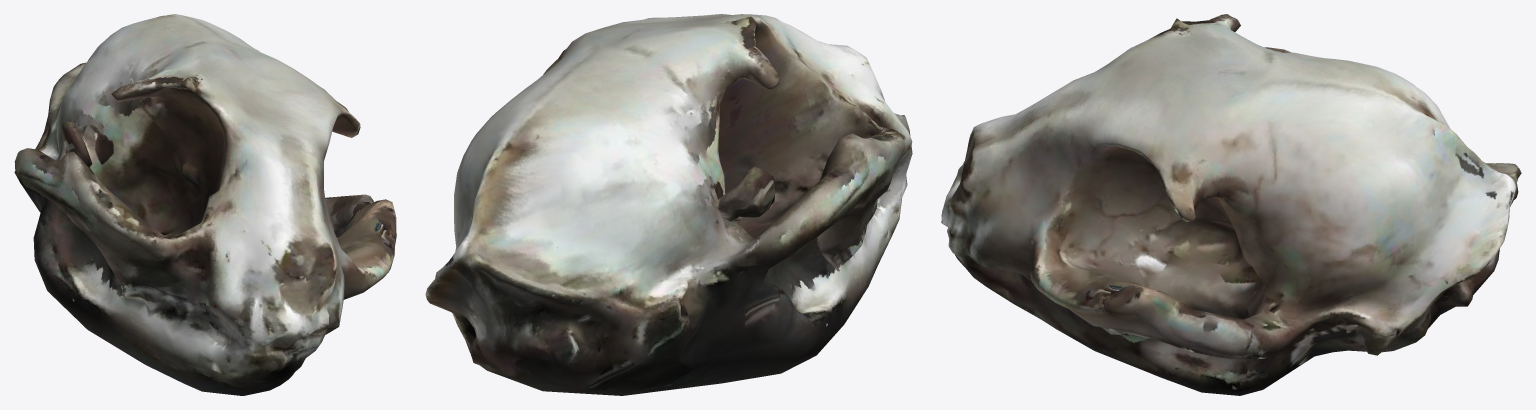
File: skull.glb
3 views of the same model, side by side, from view 1: azimuth 30°, elevation 25°; view 2: azimuth 150°, elevation 25°; view 3: azimuth 270°, elevation 25° (orthographic). The views are drawn at different scales.
Visible parts, largest first — view 1: skull_mouth_closed_target; view 2: skull_mouth_closed_target; view 3: skull_mouth_closed_target.
Part boxes in pixels (x1,y1,x2,y2): skull_mouth_closed_target: (14,14,396,395); skull_mouth_closed_target: (425,14,912,395); skull_mouth_closed_target: (941,14,1521,395).
Size of the model in its own units: 0.0641 by 0.0573 by 0.0915.
Materials: 1 (1 with a texture image).
